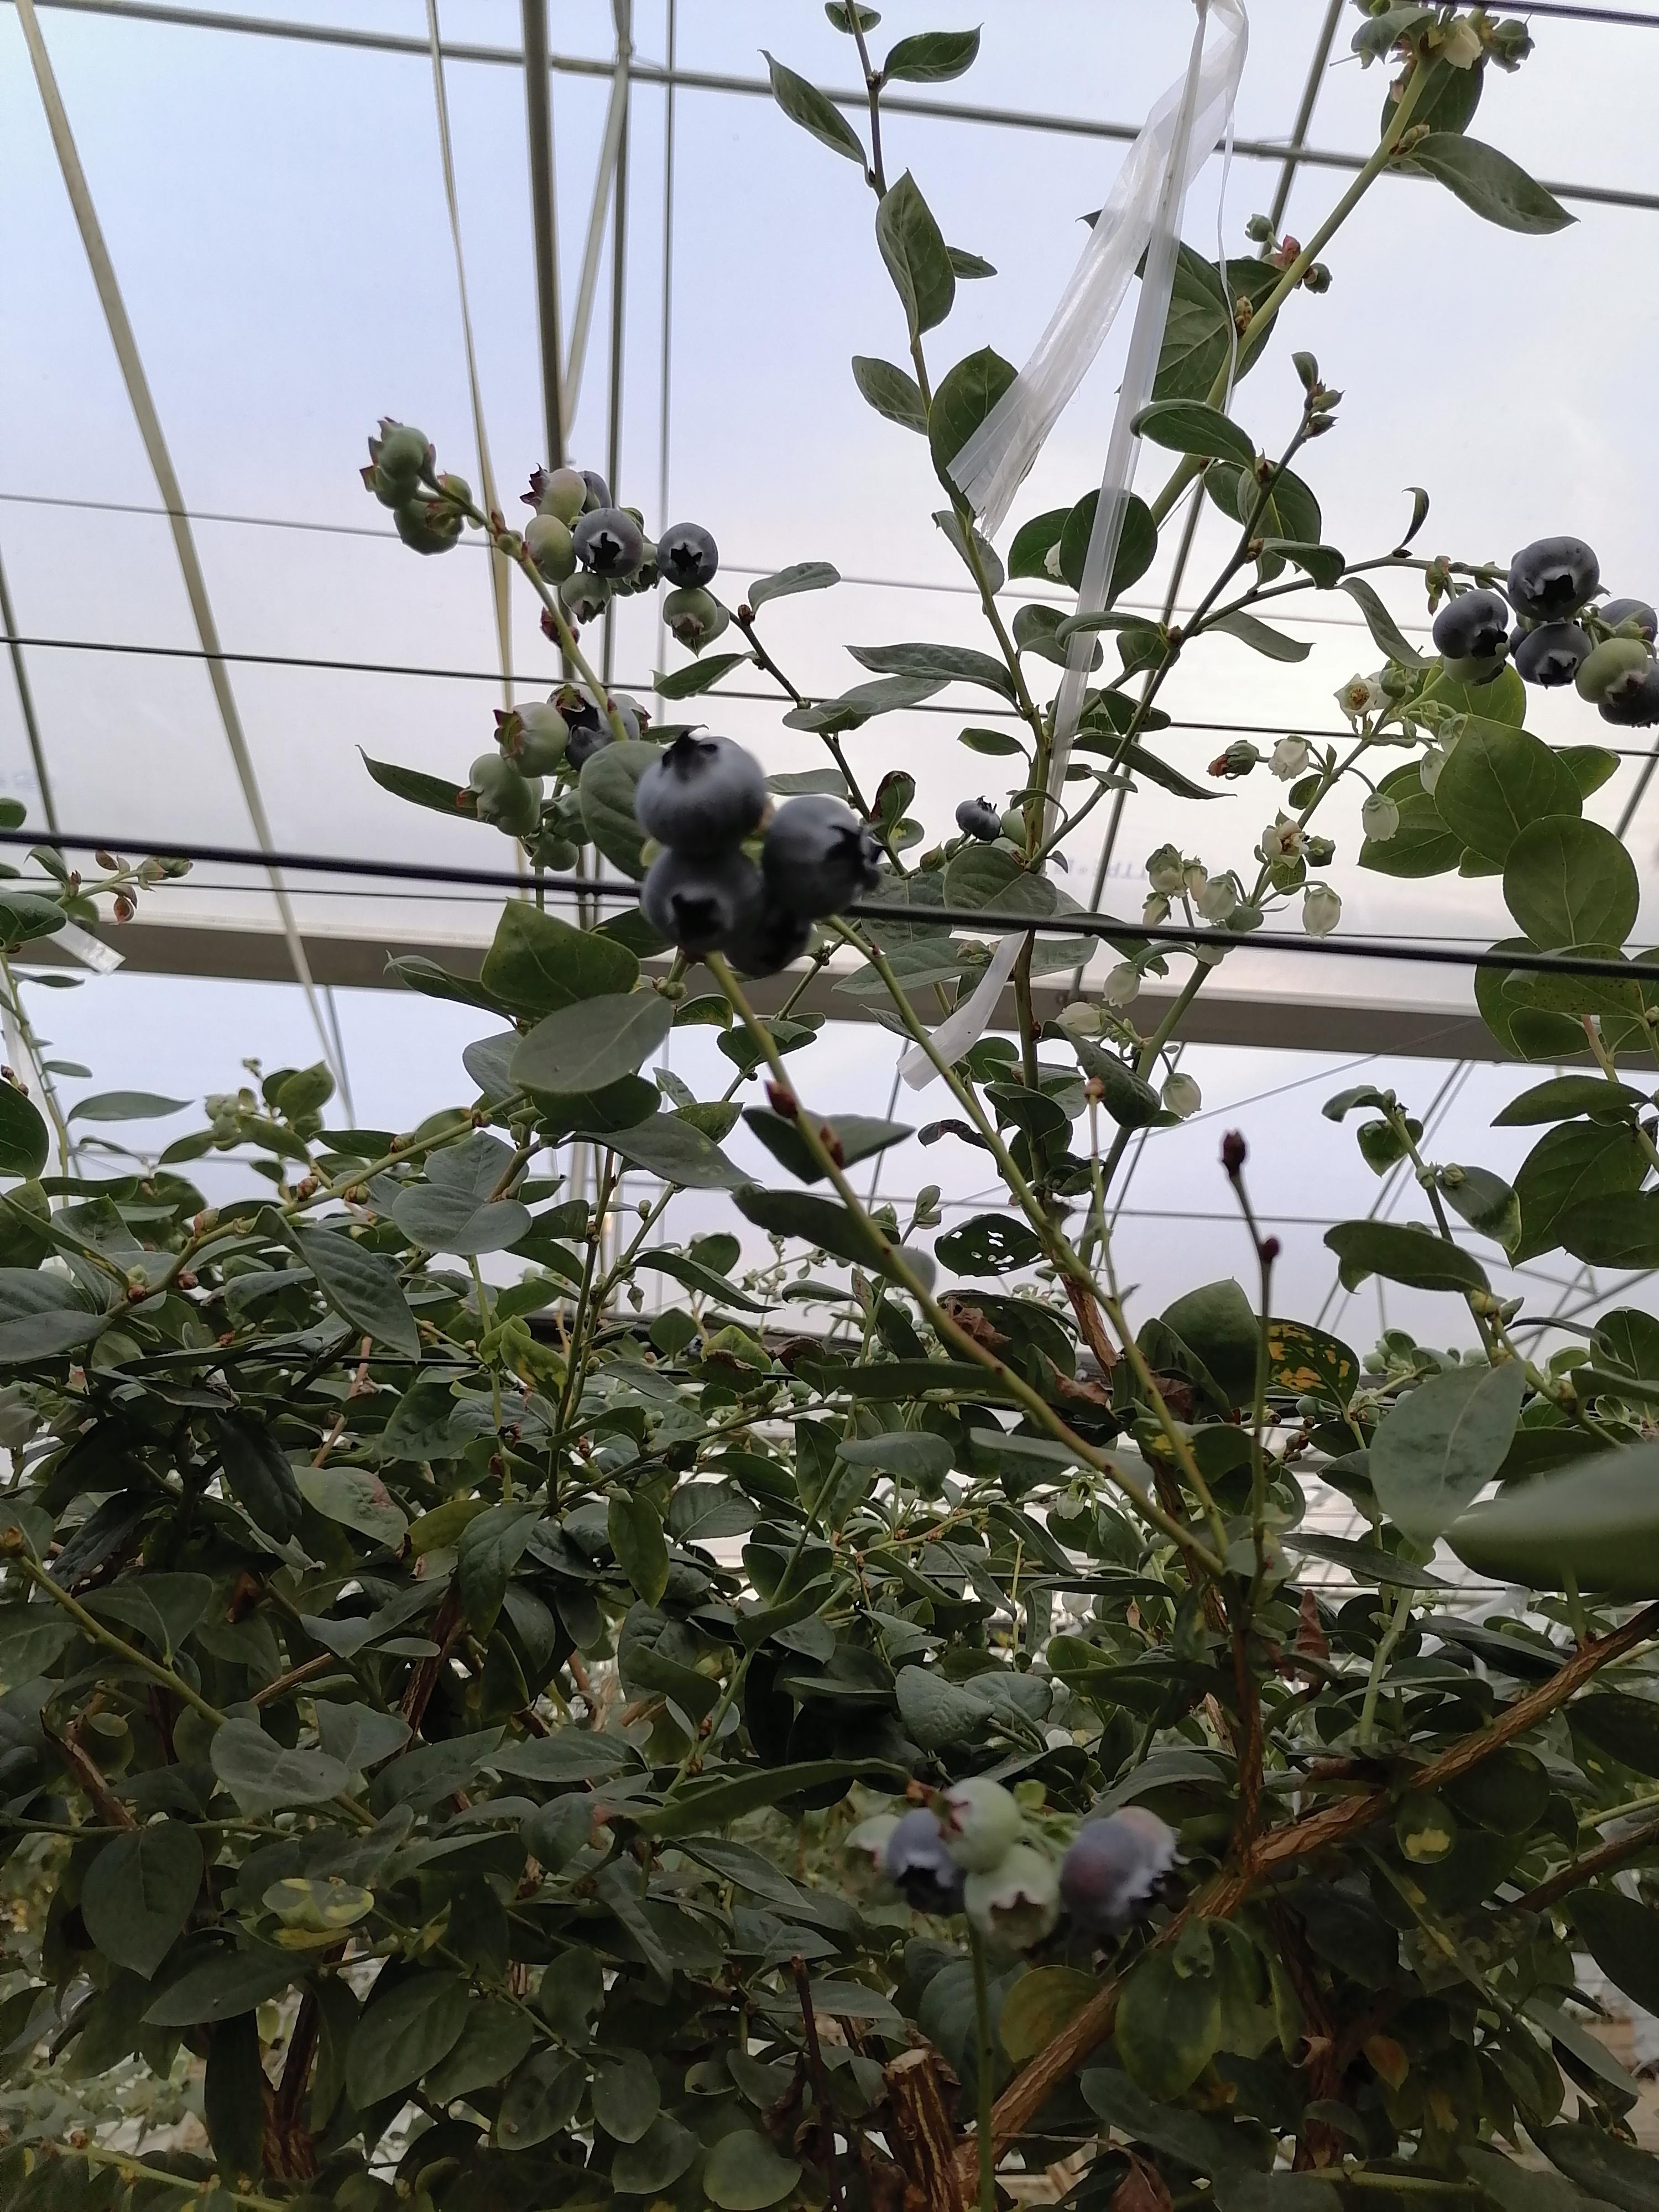ripe-blueberries: (634, 732, 767, 859), (760, 796, 880, 921), (641, 848, 763, 953), (1061, 1818, 1162, 1935), (723, 871, 810, 979), (887, 1808, 969, 1919), (1507, 535, 1600, 620), (561, 698, 640, 772), (572, 507, 645, 580), (1432, 589, 1509, 658), (1514, 624, 1595, 688), (1596, 658, 1659, 728), (657, 521, 720, 590), (1600, 599, 1659, 641), (955, 796, 1002, 841), (1509, 624, 1530, 660)
